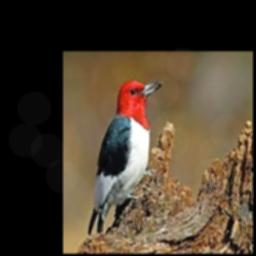Woodpecker: (88, 80, 162, 236)
